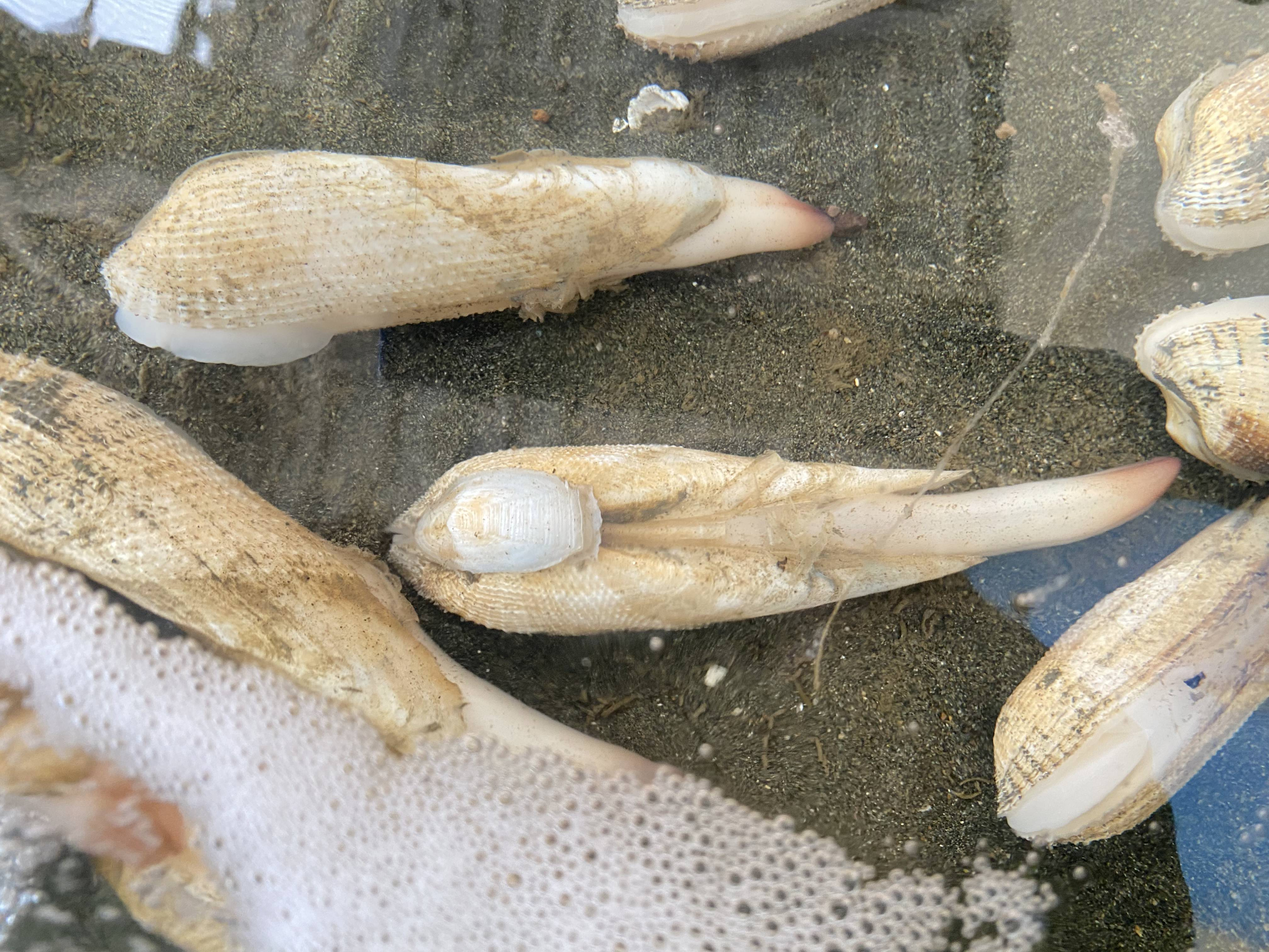Healthy: (0, 353, 650, 769), (102, 151, 831, 364), (390, 445, 1179, 634)
